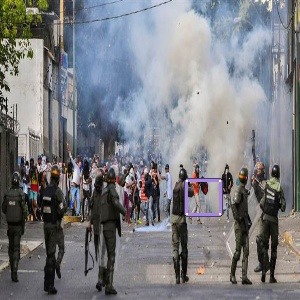square: (182, 177, 224, 219)
